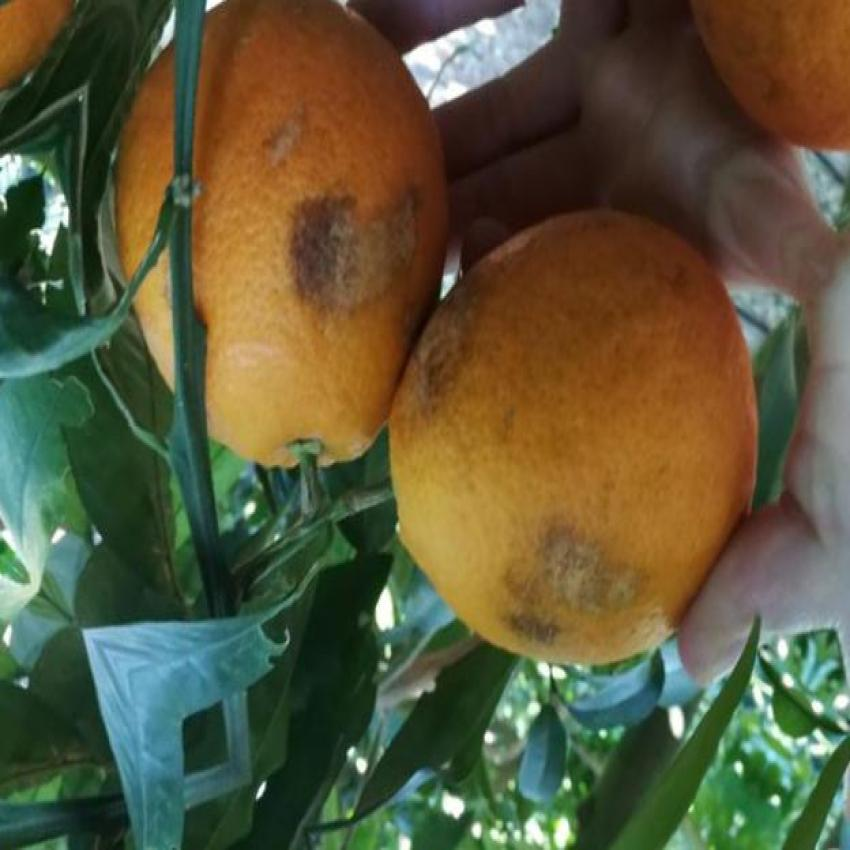Mal estado: (108, 4, 465, 514), (376, 219, 752, 685), (683, 0, 849, 145)
